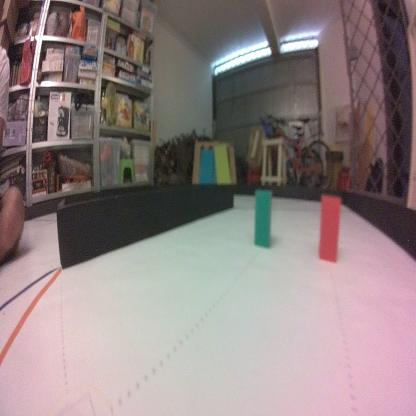green: (252, 186, 274, 248)
red: (317, 191, 341, 263)
